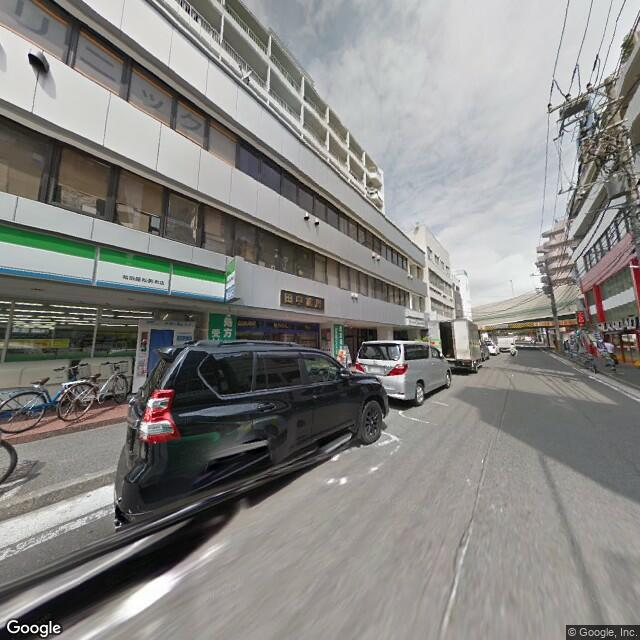family_mart: (1, 230, 225, 300)
